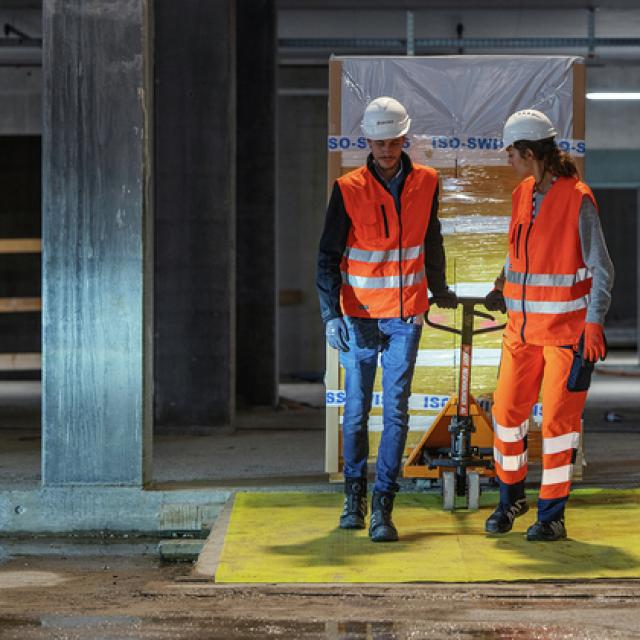secure person: (317, 98, 445, 542), (486, 110, 616, 542)
